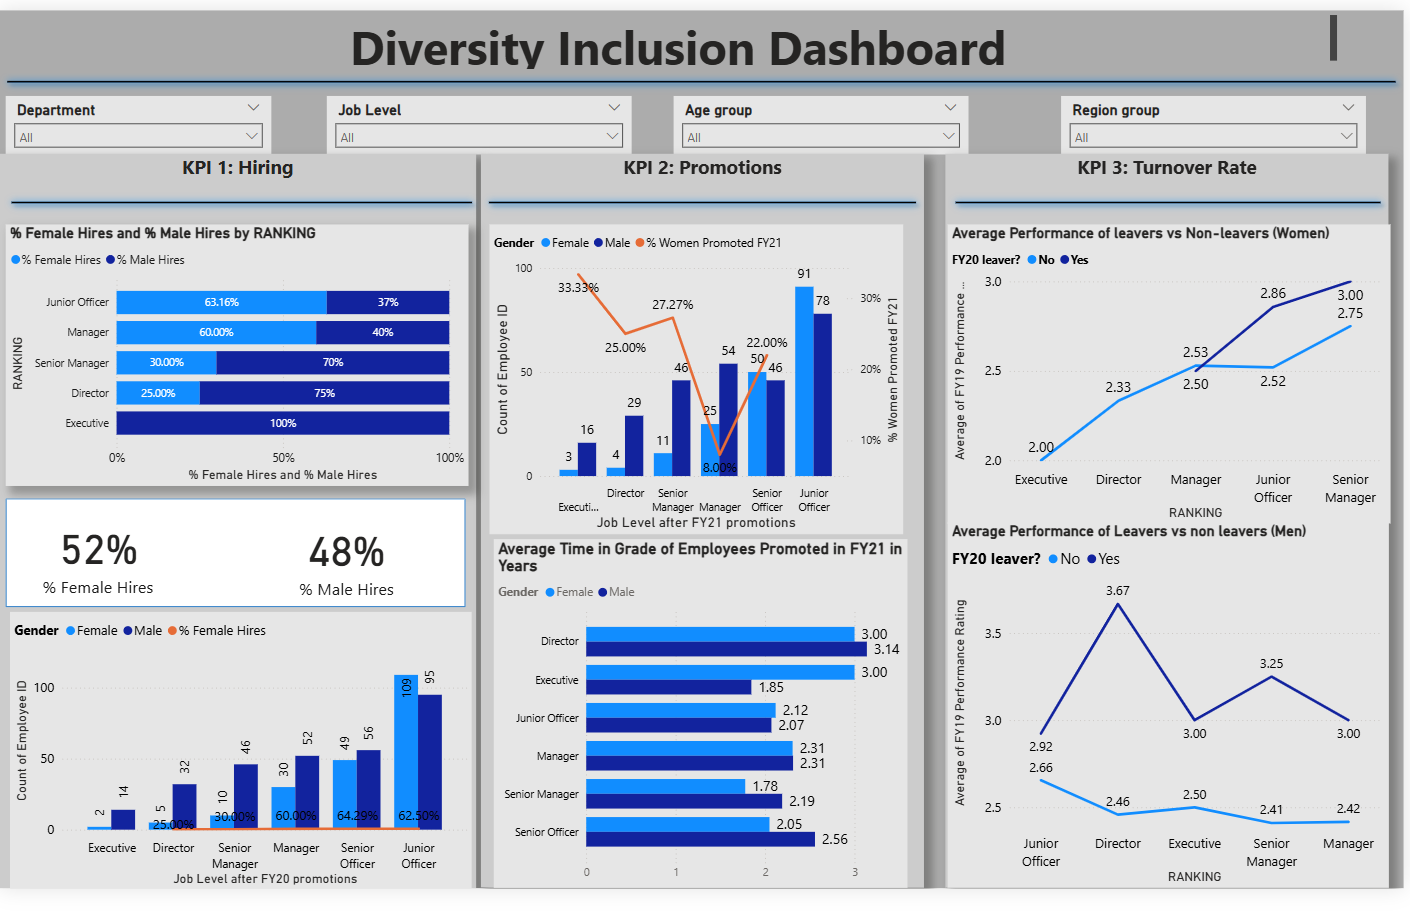

The page's visual inventory and layout, read from the dashboard file:
{"tool":"powerbi","page":{"name":"Page 1","canvas":[1600,1000],"ordinal":0},"visuals":[{"type":"textbox","box":[454.8,0,576.2,71.4],"z":0},{"type":"slicer","fields":{"Values":["Job Levels.RANKING"]},"box":[373.8,97.6,347.6,66.7],"z":1000},{"type":"slicer","fields":{"Values":["at 2020.FUNCTION"]},"box":[7.1,97.6,302.4,66.7],"z":2000},{"type":"slicer","fields":{"Values":["Pharma Group AG.Age group"]},"box":[769,97.6,335.7,66.7],"z":3000},{"type":"slicer","fields":{"Values":["Pharma Group AG.Region group: nationality 1"]},"box":[1209.5,97.6,347.6,66.7],"z":4000},{"type":"shape","box":[4.8,164.3,542.9,835.7],"z":5000},{"type":"shape","box":[1078.6,164.3,504.8,835.7],"z":6000},{"type":"shape","box":[547.6,164.3,504.8,835.7],"z":7000},{"type":"barChart","fields":{"Category":["Job Levels.RANKING"],"Y":["Backing 2 (2).% Female Hires","Backing 2 (2).% Male Hires"]},"box":[0,247.6,526.2,297.6],"z":8000},{"type":"lineClusteredColumnComboChart","fields":{"Category":["Pharma Group AG.Job Level after FY20 promotions"],"Y":["CountNonNull(Pharma Group AG.Employee ID)"],"Y2":["Backing 2 (2).% Female Hires"],"Series":["Pharma Group AG.Gender"]},"box":[4.8,683.3,526.2,316.7],"z":9000},{"type":"lineClusteredColumnComboChart","fields":{"Y":["CountNonNull(Pharma Group AG.Employee ID)"],"Series":["Pharma Group AG.Gender"],"Y2":["Backing 2 (2).% Women Promoted FY21"],"Category":["Pharma Group AG.Job Level after FY21 promotions"]},"box":[559.5,242.9,471.4,352.4],"z":10000},{"type":"clusteredBarChart","title":"Average Time in Grade of Employees Promoted in FY21 in Years","fields":{"Category":["Pharma Group AG.Job Level after FY20 promotions"],"Y":["Avg(Pharma Group AG.Time in Job Level @01.07.2020)"],"Series":["Pharma Group AG.Gender"]},"box":[559.5,595.2,471.4,397.6],"z":11000},{"type":"lineChart","title":"Average Performance of leavers vs Non-leavers (Women)","fields":{"Category":["Job Levels.RANKING"],"Series":["Pharma Group AG.FY20 leaver?"],"Y":["Avg(Pharma Group AG.FY19 Performance Rating)"]},"box":[1081,242.9,504.8,340.5],"z":12000},{"type":"lineChart","title":"Average Performance of Leavers vs non leavers (Men)","fields":{"Category":["Job Levels.RANKING"],"Series":["Pharma Group AG.FY20 leaver?"],"Y":["Avg(Pharma Group AG.FY19 Performance Rating)"]},"box":[1081,583.3,502.4,416.7],"z":13000},{"type":"shape","box":[1081,195.2,502.4,47.6],"z":14000},{"type":"shape","box":[4.8,195.2,542.9,47.6],"z":15000},{"type":"shape","box":[547.6,195.2,504.8,47.6],"z":16000},{"type":"shape","box":[7.1,557.1,523.8,123.8],"z":17000},{"type":"card","fields":{"Values":["Backing 2 (2).% Female Hires"]},"box":[7.1,571.4,171.4,100],"z":18000},{"type":"card","fields":{"Values":["Backing 2 (2).% Male Hires"]},"box":[309.5,571.4,171.4,104.8],"z":19000},{"type":"shape","box":[0,66.7,1600,31],"z":20000}]}

Visuals, with their boxes on the page's 1600x1000 design canvas (x1, y1, x2, y2). These are canvas units, not pixel positions in the 1410x917 screenshot, which may show the page scaled, cropped or inside an application window:
textbox: 455, 0, 1031, 71
slicer - Job Levels.RANKING: 374, 98, 721, 164
slicer - at 2020.FUNCTION: 7, 98, 310, 164
slicer - Pharma Group AG.Age group: 769, 98, 1105, 164
slicer - Pharma Group AG.Region group: nationality 1: 1210, 98, 1557, 164
shape: 5, 164, 548, 1000
shape: 1079, 164, 1583, 1000
shape: 548, 164, 1052, 1000
barChart - Job Levels.RANKING x Backing 2 (2).% Female Hires: 0, 248, 526, 545
lineClusteredColumnComboChart - Pharma Group AG.Job Level after FY20 promotions x CountNonNull(Pharma Group AG.Employee ID): 5, 683, 531, 1000
lineClusteredColumnComboChart - CountNonNull(Pharma Group AG.Employee ID) x Pharma Group AG.Gender: 560, 243, 1031, 595
"Average Time in Grade of Employees Promoted in FY21 in Years" clusteredBarChart: 560, 595, 1031, 993
"Average Performance of leavers vs Non-leavers (Women)" lineChart: 1081, 243, 1586, 583
"Average Performance of Leavers vs non leavers (Men)" lineChart: 1081, 583, 1583, 1000
shape: 1081, 195, 1583, 243
shape: 5, 195, 548, 243
shape: 548, 195, 1052, 243
shape: 7, 557, 531, 681
card - Backing 2 (2).% Female Hires: 7, 571, 178, 671
card - Backing 2 (2).% Male Hires: 310, 571, 481, 676
shape: 0, 67, 1600, 98
